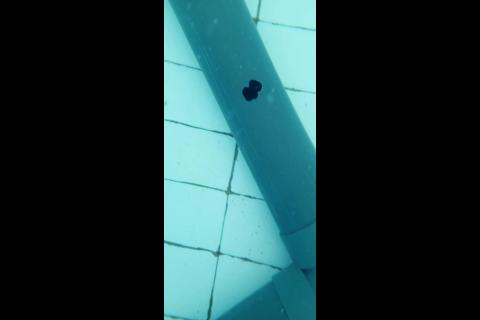kebocoran: (240, 78, 263, 102)
